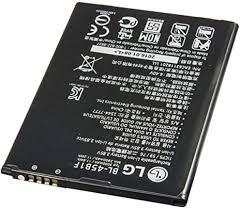battery: (2, 0, 239, 203)
